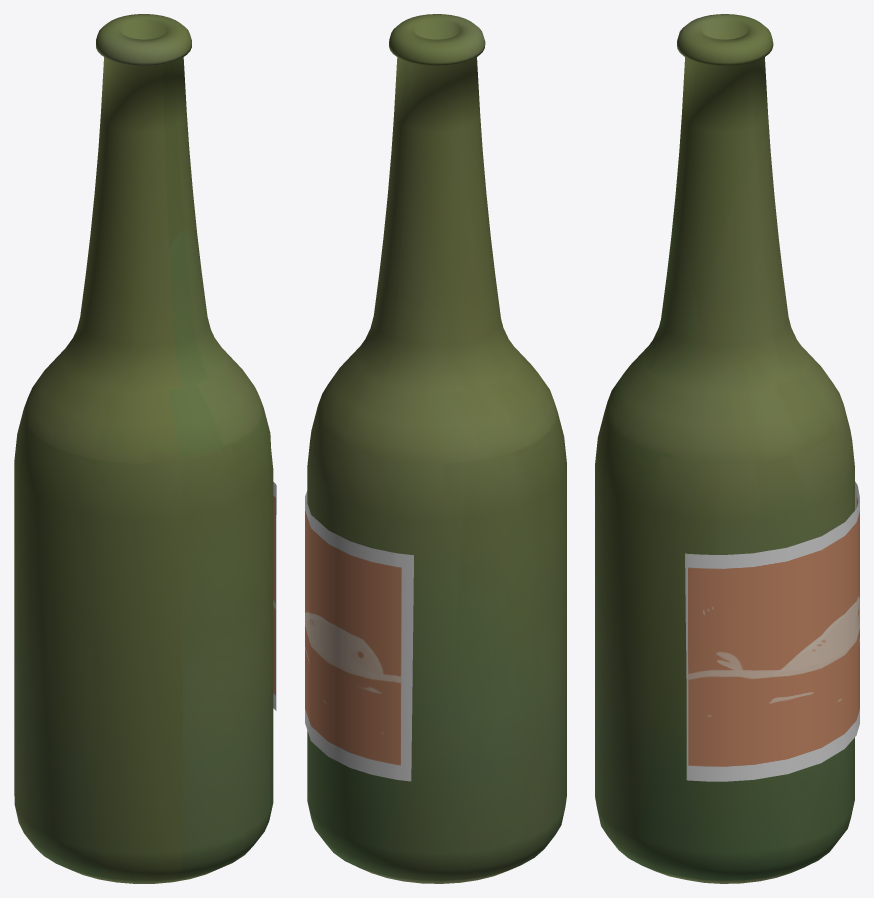
The model's file is Bottle - Lady Label.fbx.
3 views of the same model, side by side, from view 1: azimuth 30°, elevation 25°; view 2: azimuth 150°, elevation 25°; view 3: azimuth 270°, elevation 25° (orthographic).
Visible parts, largest first — view 1: Plane.064; view 2: Plane.064; view 3: Plane.064.
Part boxes in pixels (x1,y1,x2,y2): Plane.064: (14,14,276,883); Plane.064: (305,14,566,883); Plane.064: (595,14,859,883).
Bounding box in the file's own units: 32.26 × 110 × 32.35.
